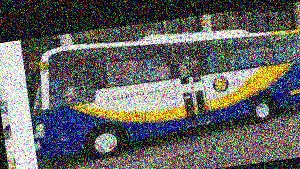bus: (32, 13, 300, 159)
